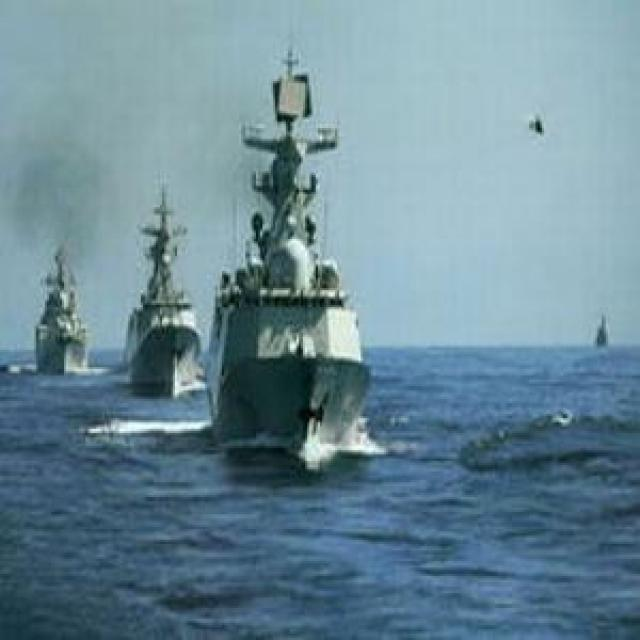navalvessels: (211, 41, 385, 467), (112, 178, 200, 402), (18, 225, 102, 378)
